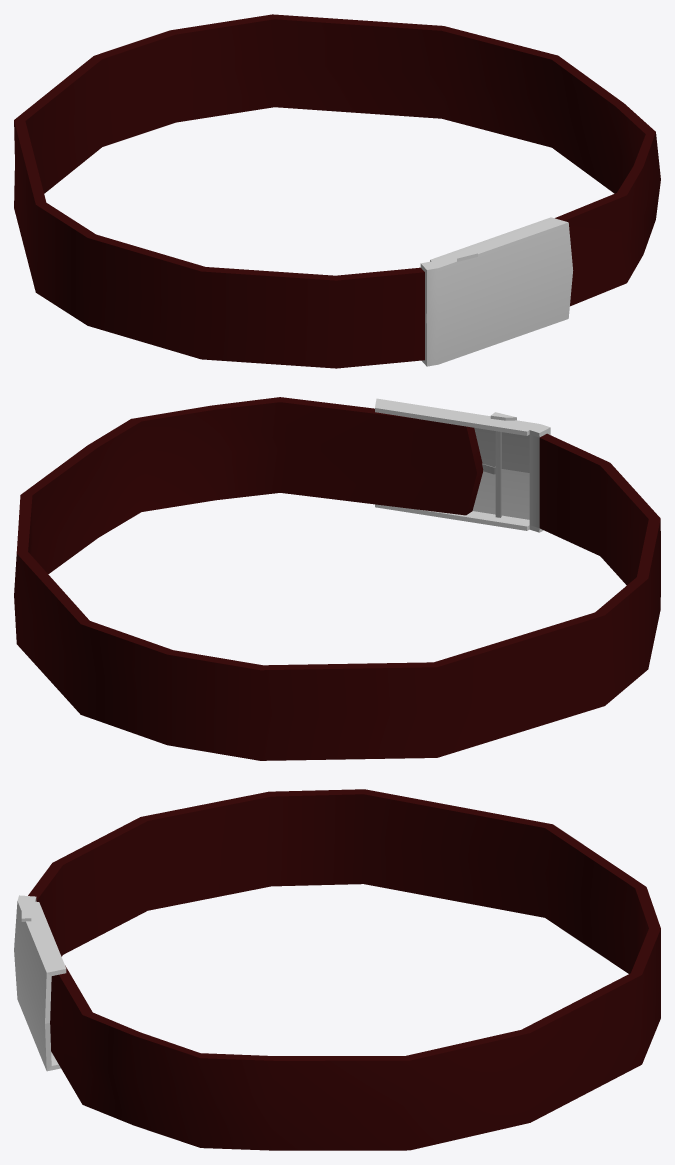
Rendered from CintoA (1).fbx.
3 views of the same model, one above another, from view 1: azimuth 30°, elevation 25°; view 2: azimuth 150°, elevation 25°; view 3: azimuth 270°, elevation 25° (orthographic). The views are drawn at different scales.
Parts seen in each view (by area): view 1: Cinto_A; view 2: Cinto_A; view 3: Cinto_A.
Boxes of the visible parts, box(x1,y1,x2,y2) form: Cinto_A: box(14, 14, 660, 368); Cinto_A: box(14, 397, 660, 760); Cinto_A: box(14, 789, 660, 1150).
Bounding box in the file's own units: 24.74 × 4.29 × 24.77.
